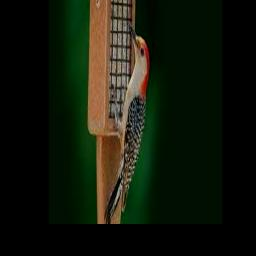Woodpecker: (105, 21, 149, 221)
